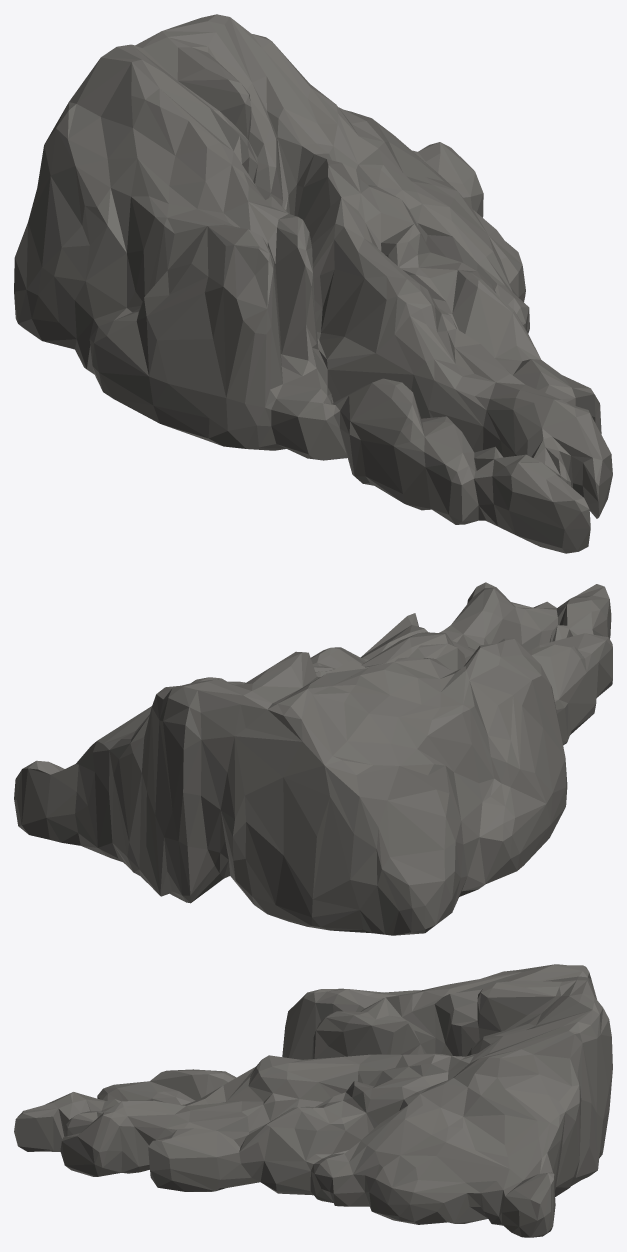
Rendered from SM_Env_Cliff_08.fbx.
The picture shows the model from 3 angles, top to bottom: view 1: azimuth 30°, elevation 25°; view 2: azimuth 150°, elevation 25°; view 3: azimuth 270°, elevation 25°; orthographic projection. The views are drawn at different scales.
Parts seen in each view (by area): view 1: SM_Env_Cliff_08; view 2: SM_Env_Cliff_08; view 3: SM_Env_Cliff_08.
Boxes of the visible parts, x1,y1,x2,y2 form: SM_Env_Cliff_08: (14,14,612,553); SM_Env_Cliff_08: (14,582,612,935); SM_Env_Cliff_08: (14,964,612,1237).
Bounding box in the file's own units: 1865 × 935 × 2984.
